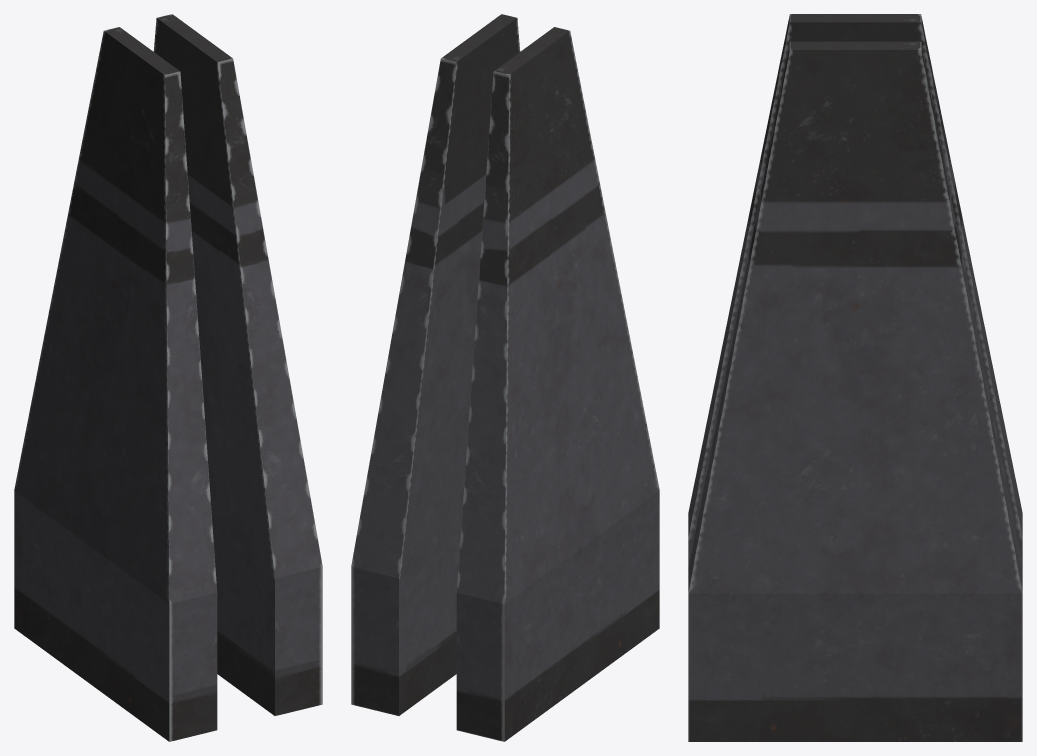
File: conn_m_2.fbx
3 views of the same model, side by side, from view 1: azimuth 30°, elevation 25°; view 2: azimuth 150°, elevation 25°; view 3: azimuth 270°, elevation 25° (orthographic). The views are drawn at different scales.
Visible parts, largest first — view 1: conn_m_2; view 2: conn_m_2; view 3: conn_m_2.
Boxes of the visible parts, x1=… form: conn_m_2: x1=14, y1=14, x2=322, y2=741; conn_m_2: x1=351, y1=14, x2=659, y2=741; conn_m_2: x1=688, y1=14, x2=1022, y2=741.
Size of the model in its own units: 2.91 by 11.26 by 5.1.
